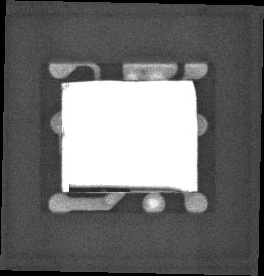DIE_BROKEN: (66, 182, 191, 192)
